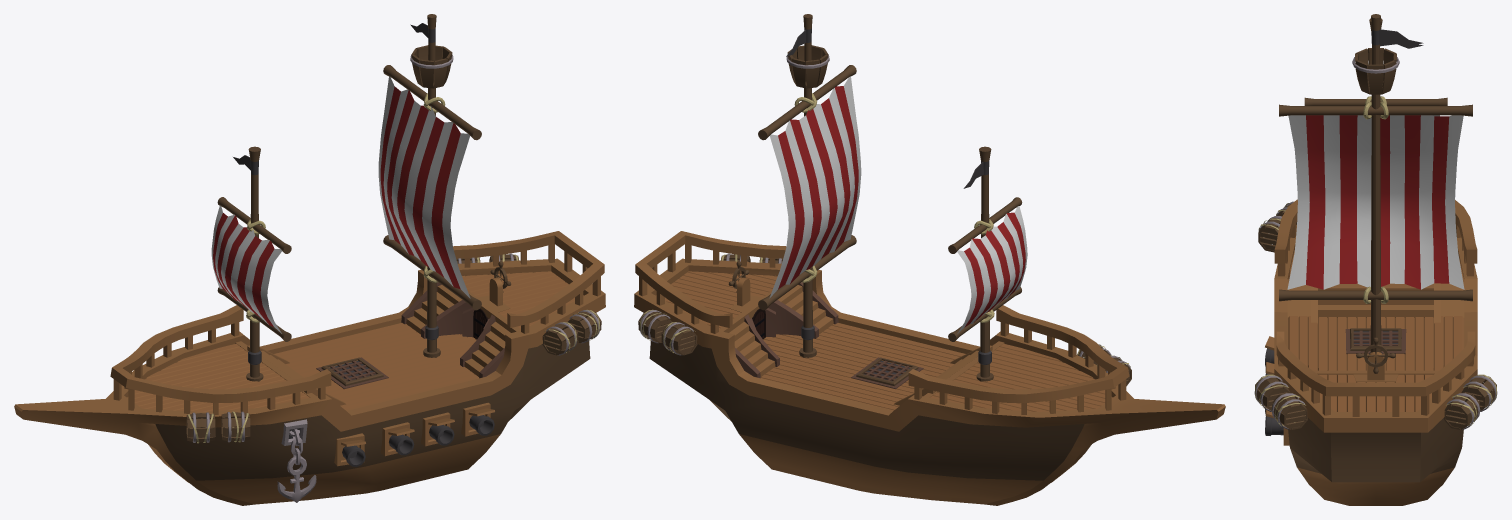
Rendered from BarcoFinalA.fbx.
The picture shows the model from 3 angles, left to right: view 1: azimuth 30°, elevation 25°; view 2: azimuth 150°, elevation 25°; view 3: azimuth 270°, elevation 25°; orthographic projection. The views are drawn at different scales.
Visible parts, largest first — view 1: Ship_Large; view 2: Ship_Large; view 3: Ship_Large.
Part boxes in pixels (box(x1,y1,x2,y2)): Ship_Large: box(14, 14, 605, 505); Ship_Large: box(634, 14, 1225, 505); Ship_Large: box(1254, 14, 1497, 505).
Bounding box in the file's own units: 1543 × 1148 × 530.
Materials: 5 (1 with a texture image).
